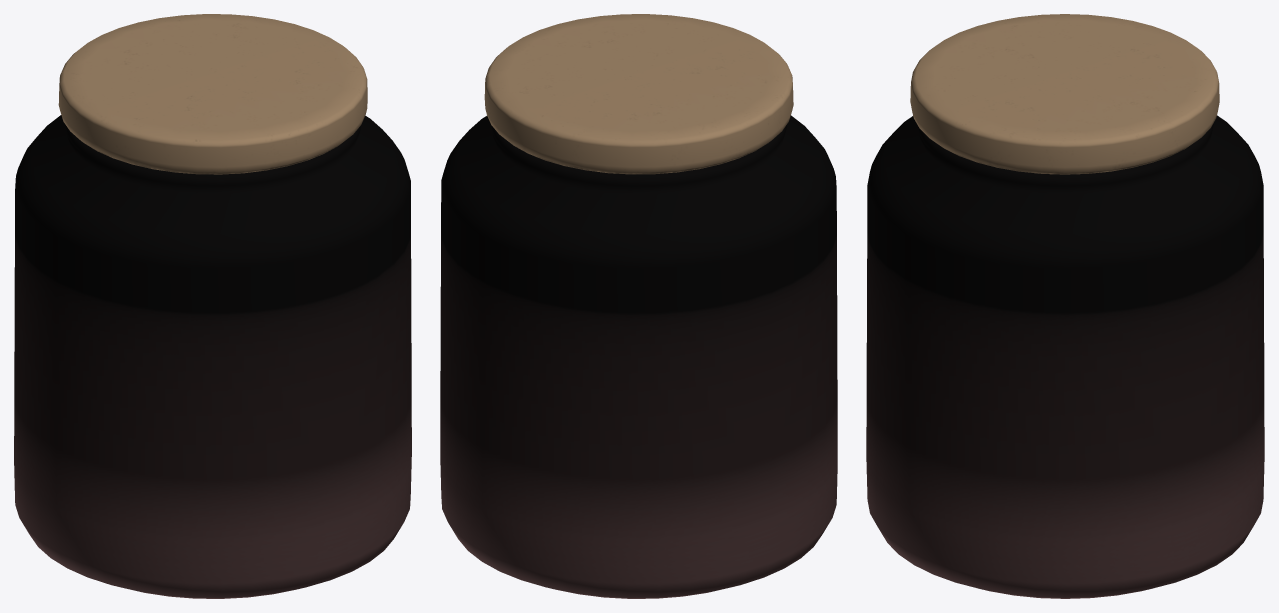
Rendered from glass_jar2.glb.
3 views of the same model, side by side, from view 1: azimuth 30°, elevation 25°; view 2: azimuth 150°, elevation 25°; view 3: azimuth 270°, elevation 25° (orthographic).
Parts seen in each view (by area): view 1: Object_2; view 2: Object_2; view 3: Object_2.
Part boxes in pixels (box(x1,y1,x2,y2)): Object_2: box(14, 14, 411, 598); Object_2: box(440, 14, 837, 598); Object_2: box(866, 14, 1264, 598).
Size of the model in its own units: 0.1549 by 0.195 by 0.1549.
1 material, 1 textured.
